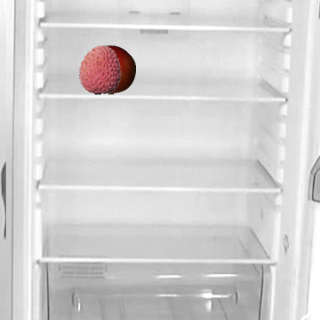Apple Braeburn: (85, 44, 135, 94)
Lychee: (74, 44, 124, 94)
